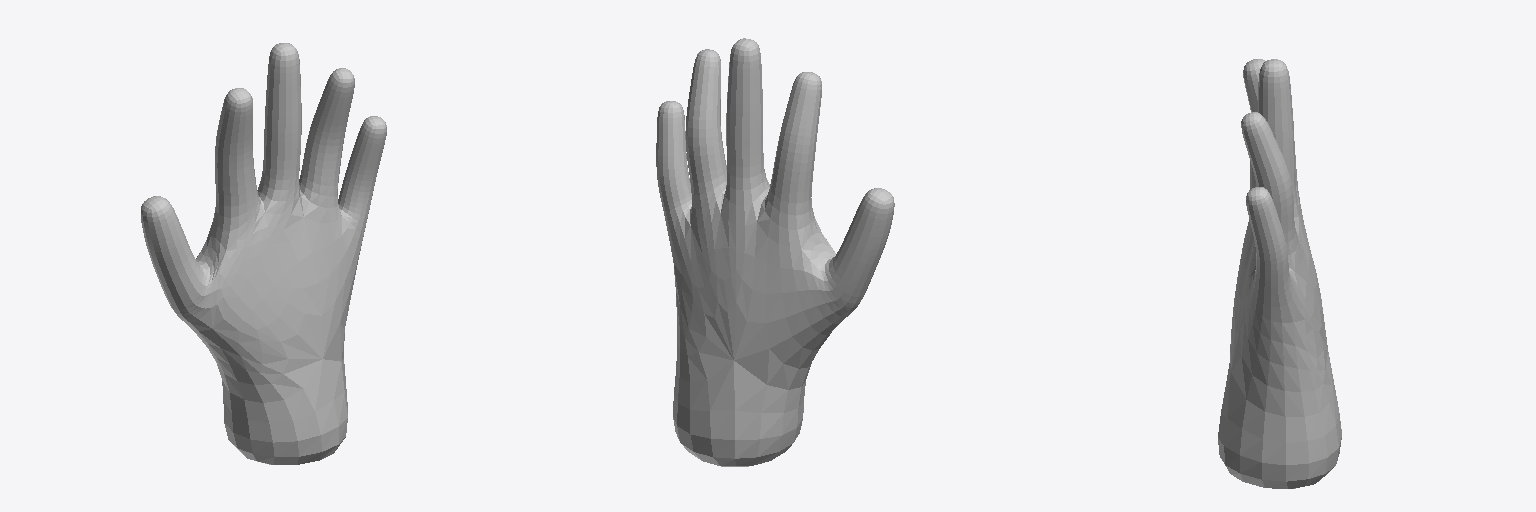
File: handanimatsion2.obj
3 renders of one model, left to right at view 1: azimuth 30°, elevation 25°; view 2: azimuth 150°, elevation 25°; view 3: azimuth 270°, elevation 25°, orthographic.
Visible parts, largest first — view 1: Cube; view 2: Cube; view 3: Cube.
Part boxes in pixels (bbox=[...]): Cube: bbox=[141, 43, 386, 464]; Cube: bbox=[656, 38, 894, 466]; Cube: bbox=[1218, 59, 1341, 488].
Bounding box in the file's own units: 3.89 × 6.51 × 1.77.